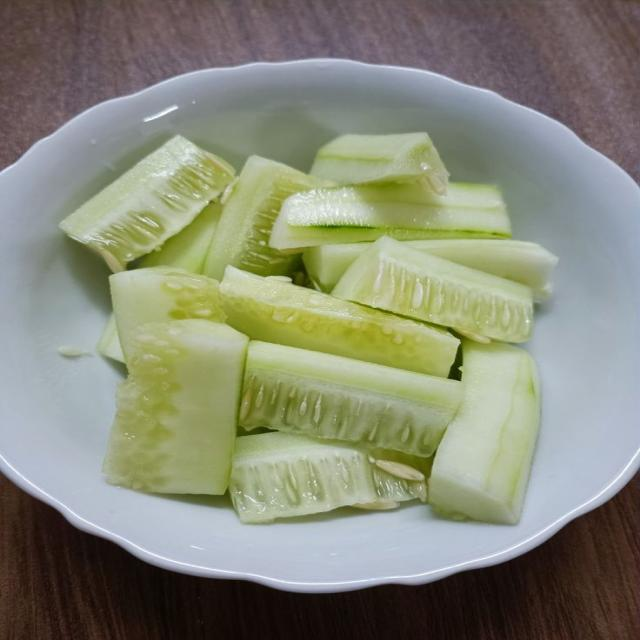cucumber sliced: (220, 267, 459, 377), (240, 342, 462, 456), (104, 320, 247, 494), (60, 136, 234, 271), (333, 237, 533, 342), (430, 340, 539, 523), (229, 433, 426, 523), (270, 183, 510, 251), (204, 156, 326, 279), (110, 267, 225, 362), (407, 239, 557, 299), (311, 133, 448, 193), (135, 201, 221, 273), (97, 314, 124, 362)
